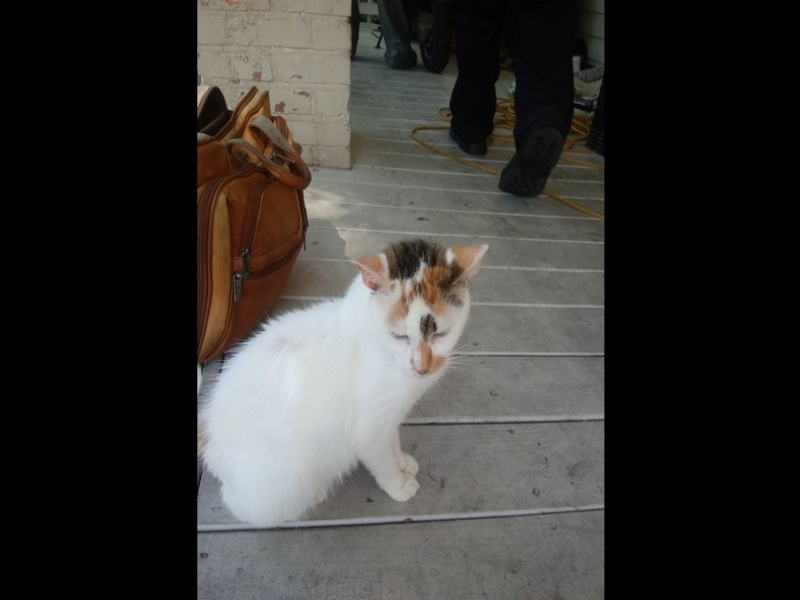cat: (199, 239, 489, 532)
